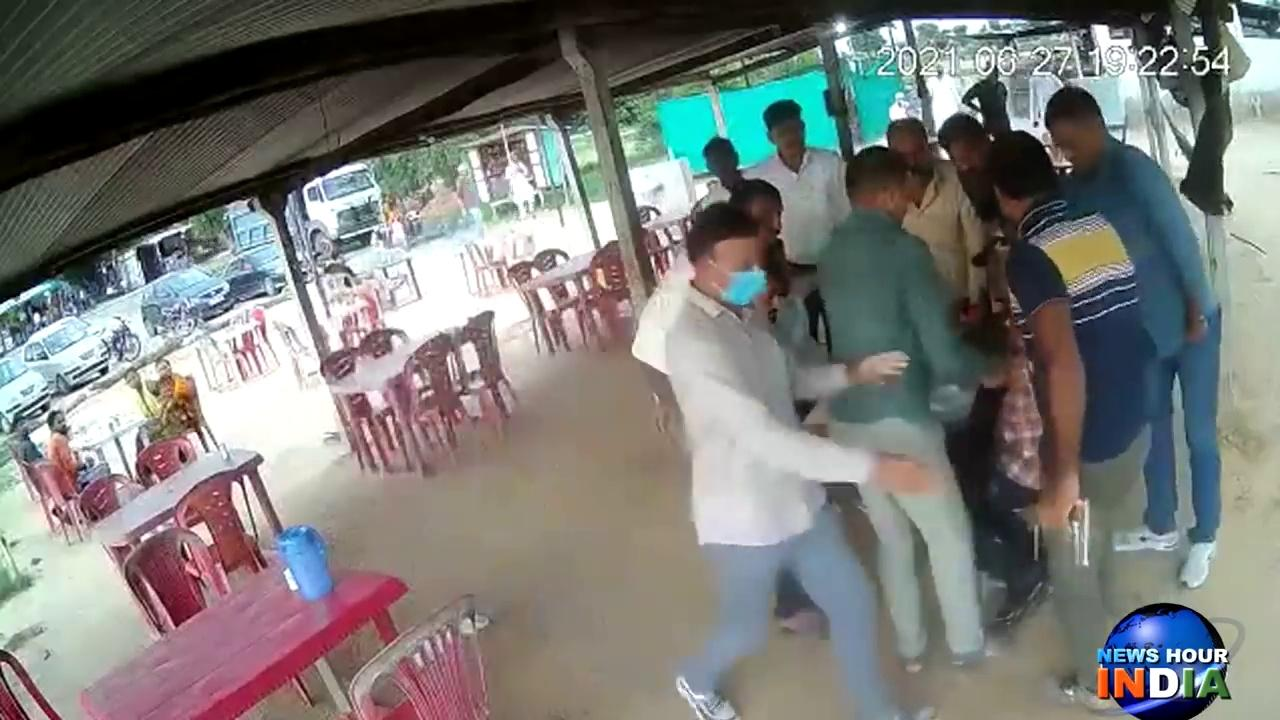weapon: (1031, 477, 1113, 576)
